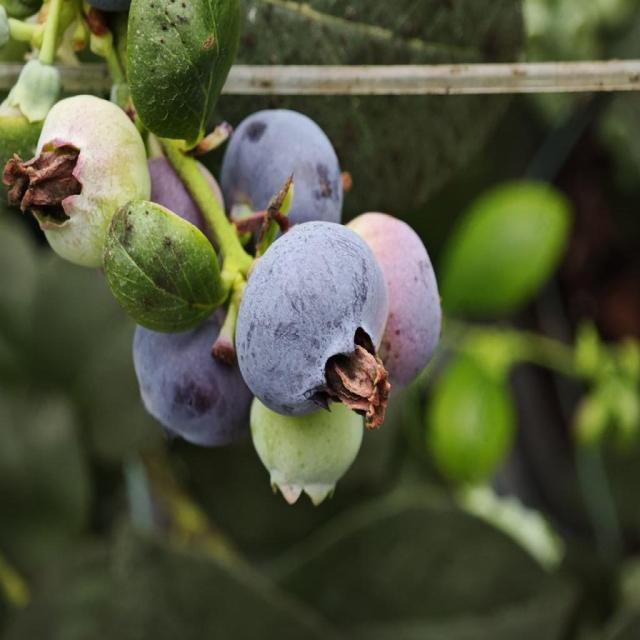RipeBlueBerry: (234, 218, 387, 414)
UnripeBlueBerry: (35, 96, 151, 263)
